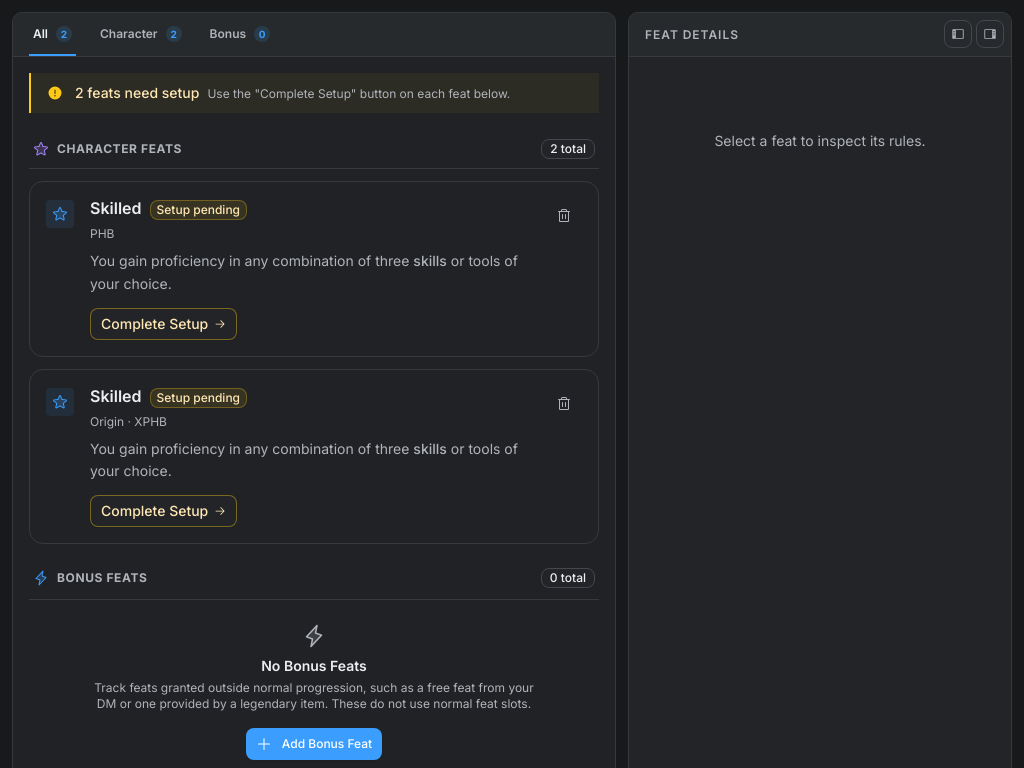
Scenario: FeatsPage bonus feat configuration › selects and removes regular feats by name and source
Click the button named "Select Skilled" in the row of "Origin · XPHB" at (314, 456), box [30, 370, 598, 543]
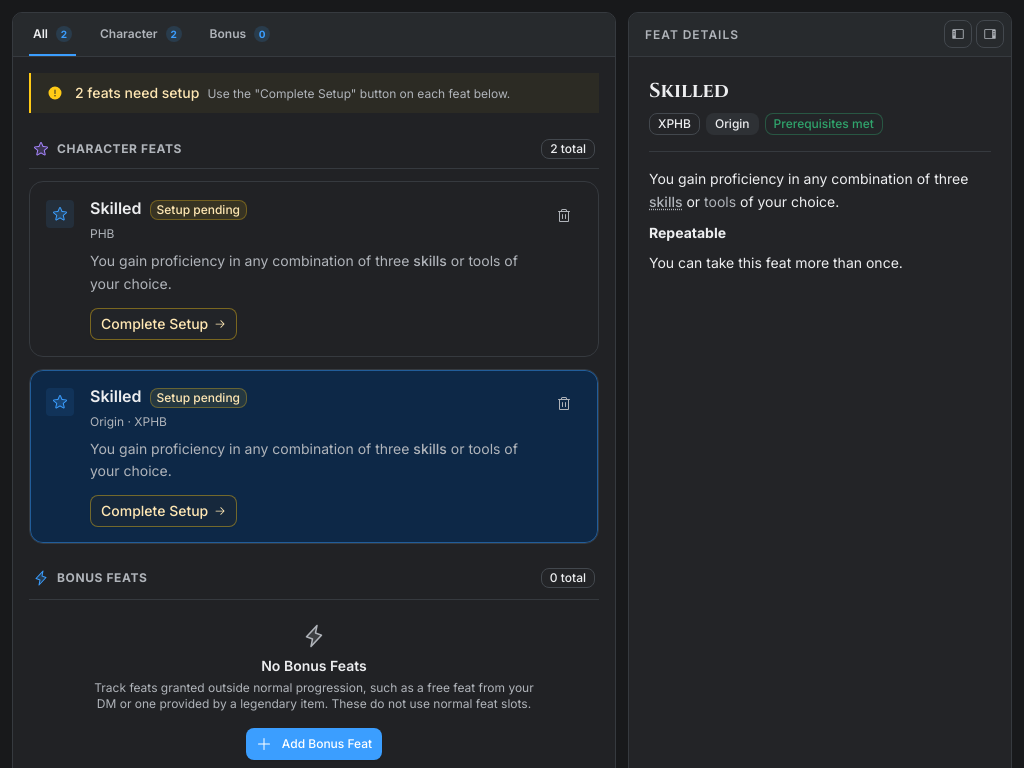
Now the text "XPHB" is shown, box [649, 113, 700, 135]
Click the 1st button named "Remove Skilled" at (564, 216), box [546, 198, 582, 234]
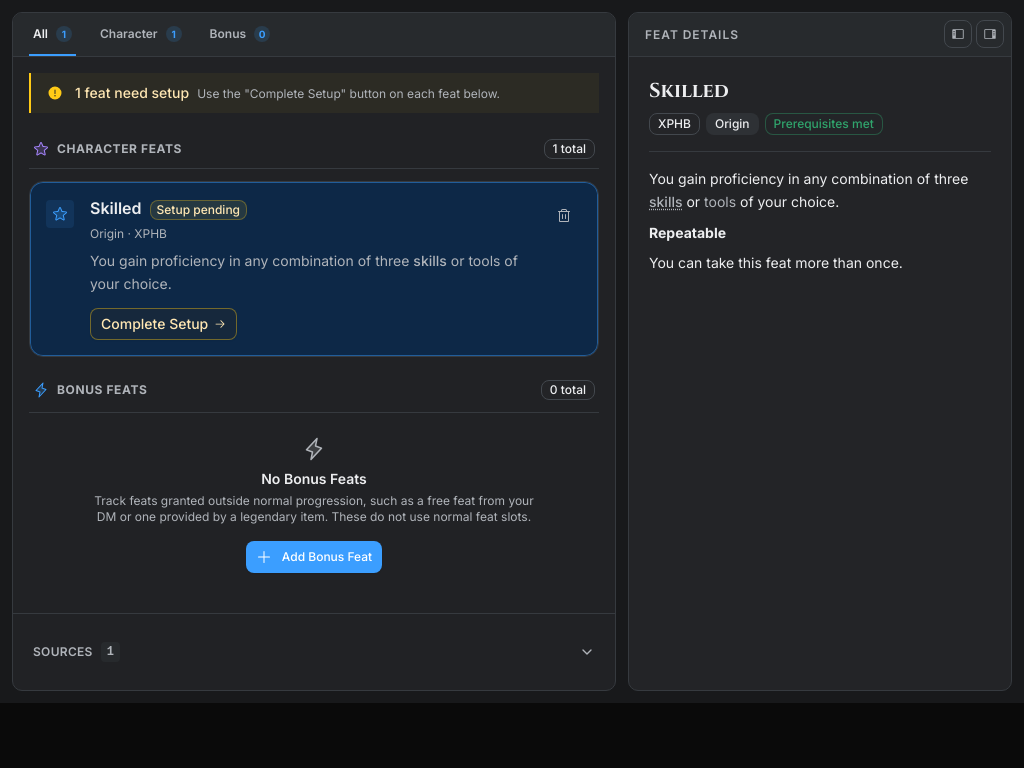
Now the text "You can take this feat more than once." is shown, box [649, 254, 903, 271]
Click the button named "Remove Skilled" at (564, 216), box [546, 198, 582, 234]
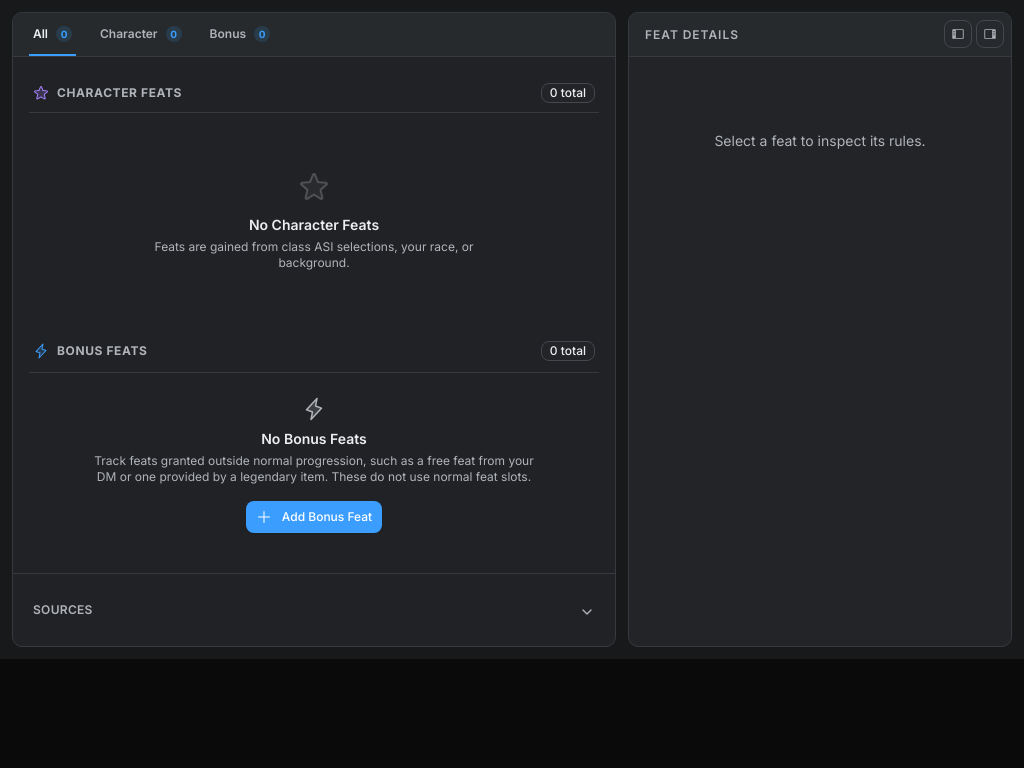
Now the text "You can take this feat more than once." is gone
